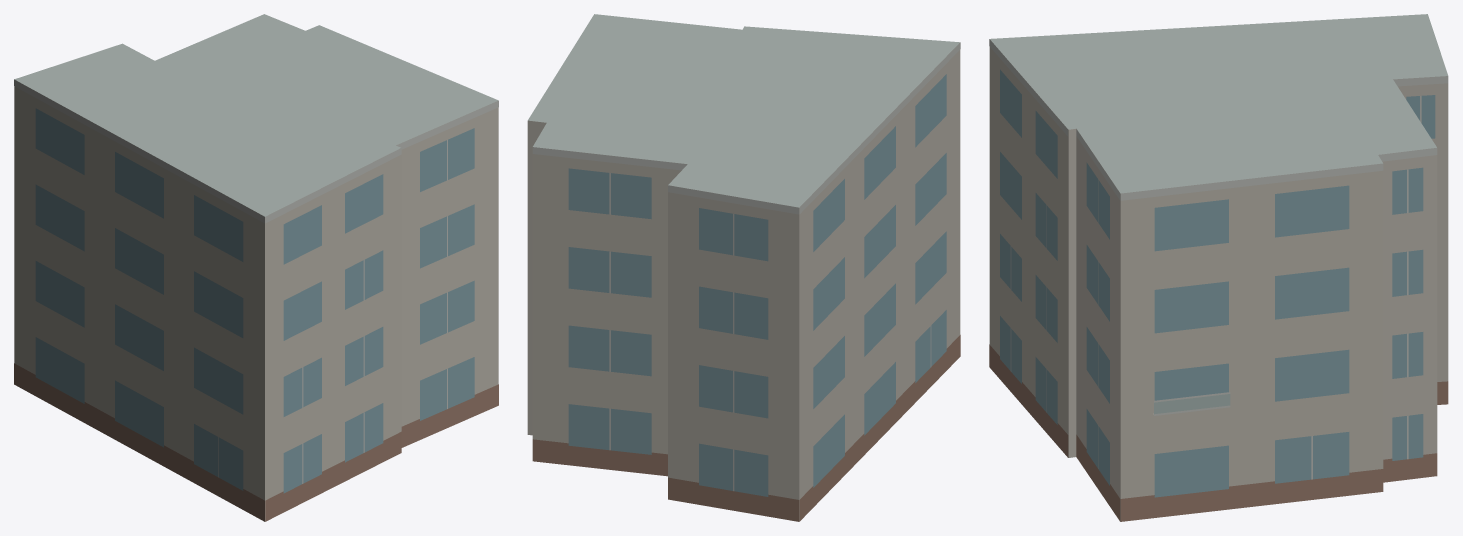
File: survey-upis-32661590.glb
3 views of the same model, side by side, from view 1: azimuth 30°, elevation 25°; view 2: azimuth 150°, elevation 25°; view 3: azimuth 270°, elevation 25° (orthographic). The views are drawn at different scales.
Parts seen in each view (by area): view 1: survey-upis-32661590.tmp; view 2: survey-upis-32661590.tmp; view 3: survey-upis-32661590.tmp.
Part boxes in pixels (x1,y1,x2,y2): survey-upis-32661590.tmp: [14, 14, 498, 521]; survey-upis-32661590.tmp: [527, 14, 960, 521]; survey-upis-32661590.tmp: [989, 14, 1448, 521].
Size of the model in its own units: 12.91 by 11 by 13.94.
